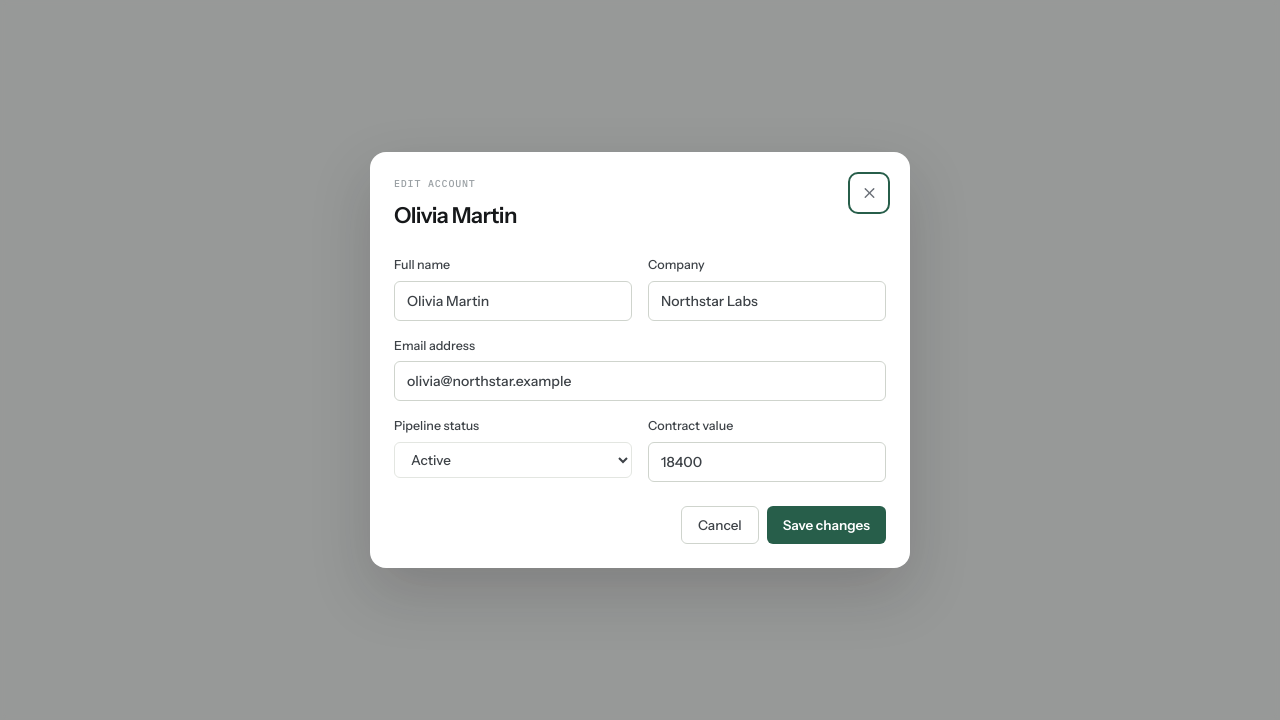
CustomerDialog › shows the API's message instead of a generic failure
The image size is (1280, 720).
Replace the text in the field labelled "Company" with "Anything" at (767, 301), box x1=648 y1=281 x2=886 y2=321
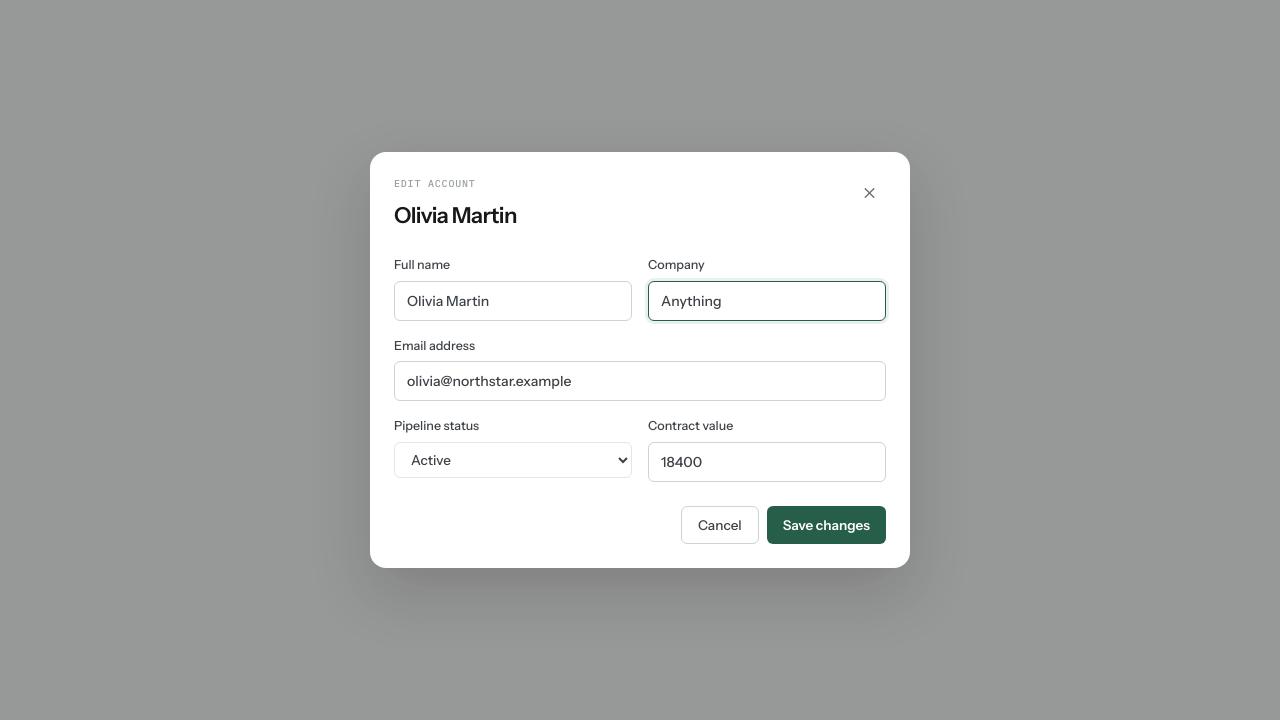
Click the button "Save changes" at (826, 525), box x1=767 y1=506 x2=886 y2=544
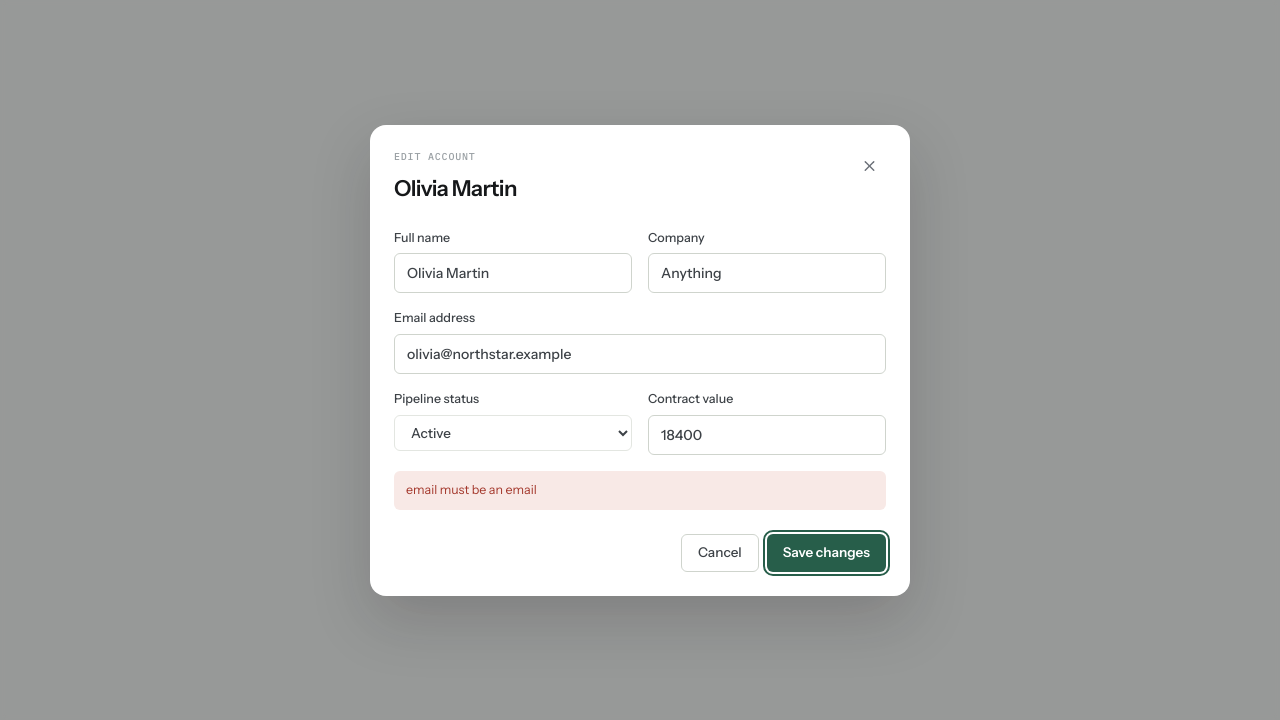
Result: the text "email must be an email" is shown at x1=394 y1=471 x2=886 y2=510
